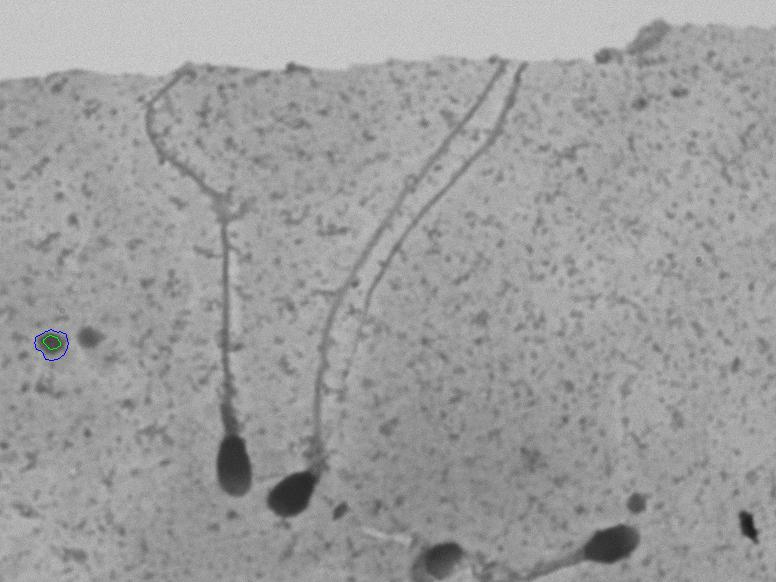Abnormal: (257, 62, 509, 527), (130, 70, 259, 502)
